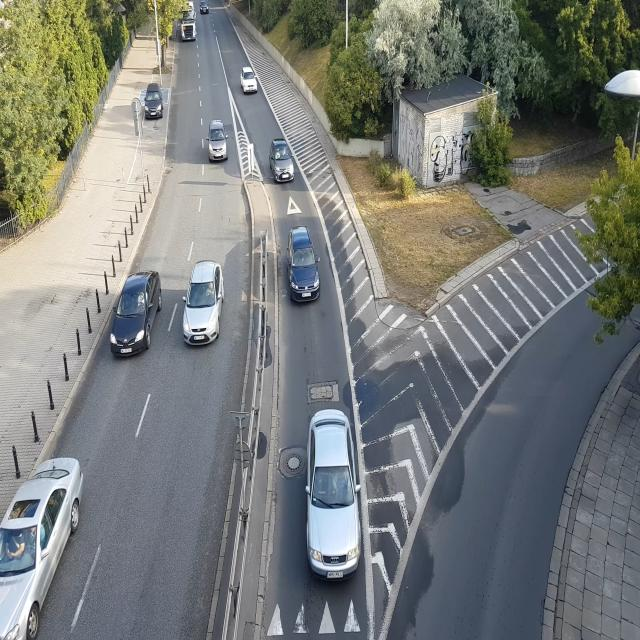car: (1, 457, 87, 639), (300, 403, 366, 585), (110, 272, 161, 358), (182, 260, 223, 347), (288, 225, 320, 302), (268, 138, 297, 185), (208, 122, 229, 161), (144, 88, 166, 118), (240, 69, 258, 96), (200, 1, 210, 13)
truck: (180, 0, 197, 43)
